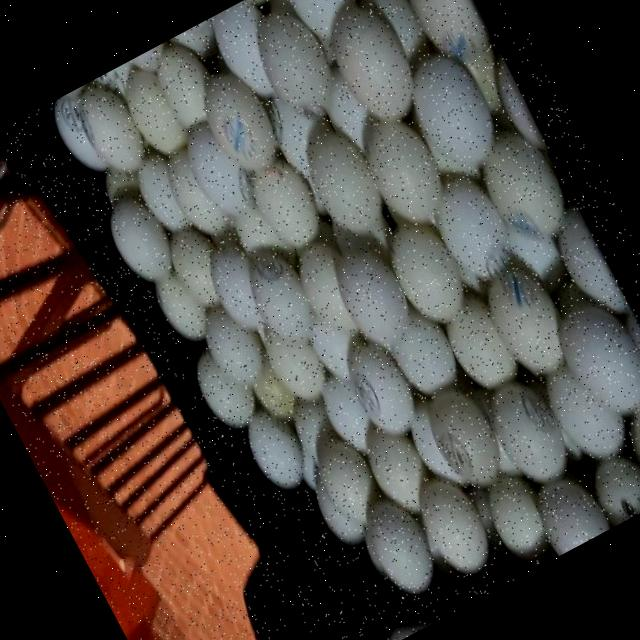ping-pong-ball: (380, 27, 518, 196), (333, 90, 462, 242), (416, 160, 537, 300), (308, 0, 429, 137), (465, 116, 584, 254), (286, 114, 400, 254), (473, 253, 589, 388), (234, 0, 350, 132), (540, 284, 640, 434), (165, 99, 274, 232), (316, 235, 426, 365), (188, 60, 295, 188), (327, 324, 432, 454), (401, 462, 507, 590), (339, 482, 444, 606), (474, 371, 580, 492), (375, 216, 479, 336), (226, 230, 326, 354), (231, 142, 334, 261), (344, 400, 444, 522), (139, 27, 240, 146), (413, 381, 512, 497), (282, 232, 380, 347), (150, 136, 242, 256), (180, 290, 276, 402), (92, 186, 187, 296), (194, 238, 288, 349), (62, 72, 154, 185), (301, 428, 394, 538), (432, 289, 524, 395), (371, 0, 496, 78), (104, 58, 194, 165), (229, 397, 320, 502), (250, 308, 336, 417), (159, 220, 240, 316), (522, 471, 610, 558), (578, 434, 640, 528)
